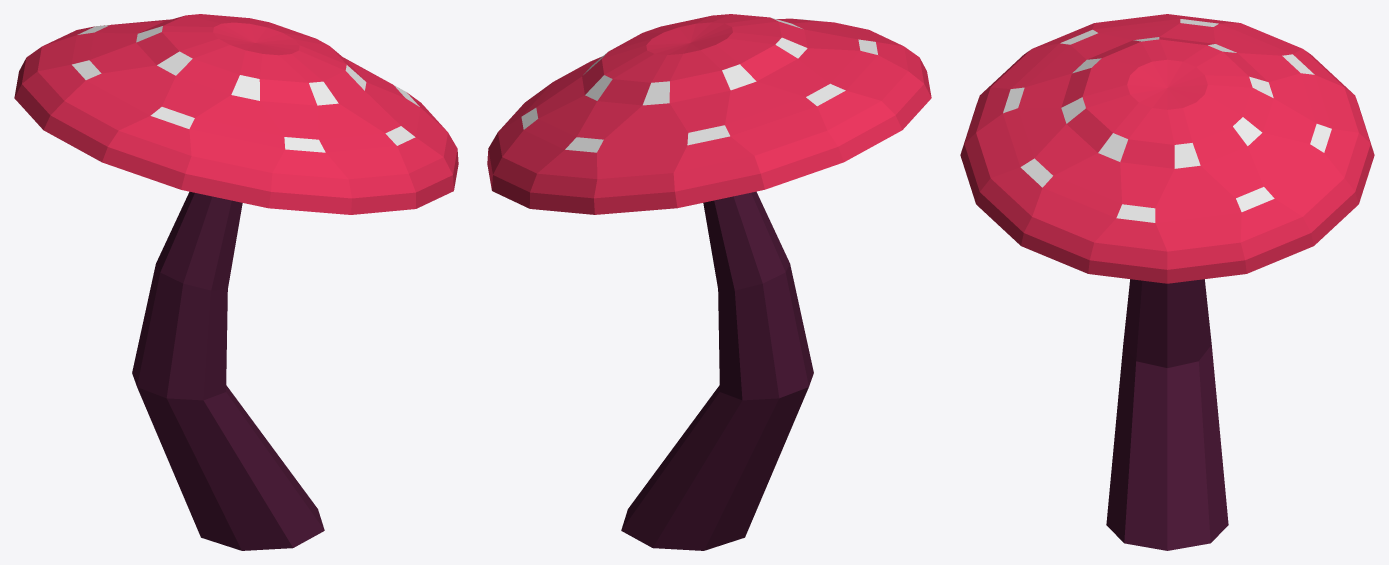
The model's file is Champi.fbx.
3 views of the same model, side by side, from view 1: azimuth 30°, elevation 25°; view 2: azimuth 150°, elevation 25°; view 3: azimuth 270°, elevation 25° (orthographic). The views are drawn at different scales.
Parts seen in each view (by area): view 1: Cylinder.001; view 2: Cylinder.001; view 3: Cylinder.001.
Part boxes in pixels (left/top/right/bottom): Cylinder.001: left=14, top=14, right=458, bottom=550; Cylinder.001: left=487, top=14, right=931, bottom=550; Cylinder.001: left=960, top=14, right=1374, bottom=550.
Size of the model in its own units: 191 by 234 by 196.
